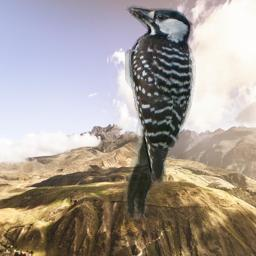Woodpecker: (122, 2, 198, 219)
